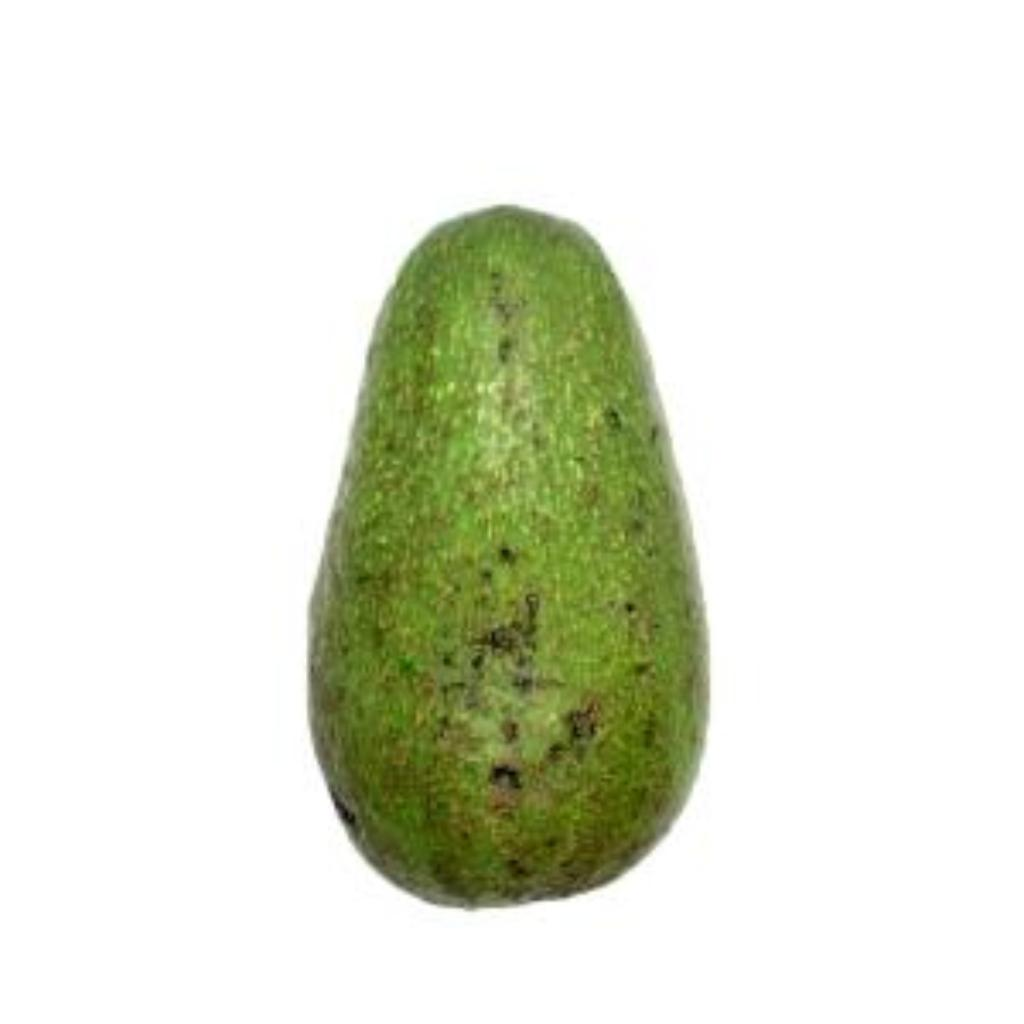cercospora: (271, 196, 732, 938)
